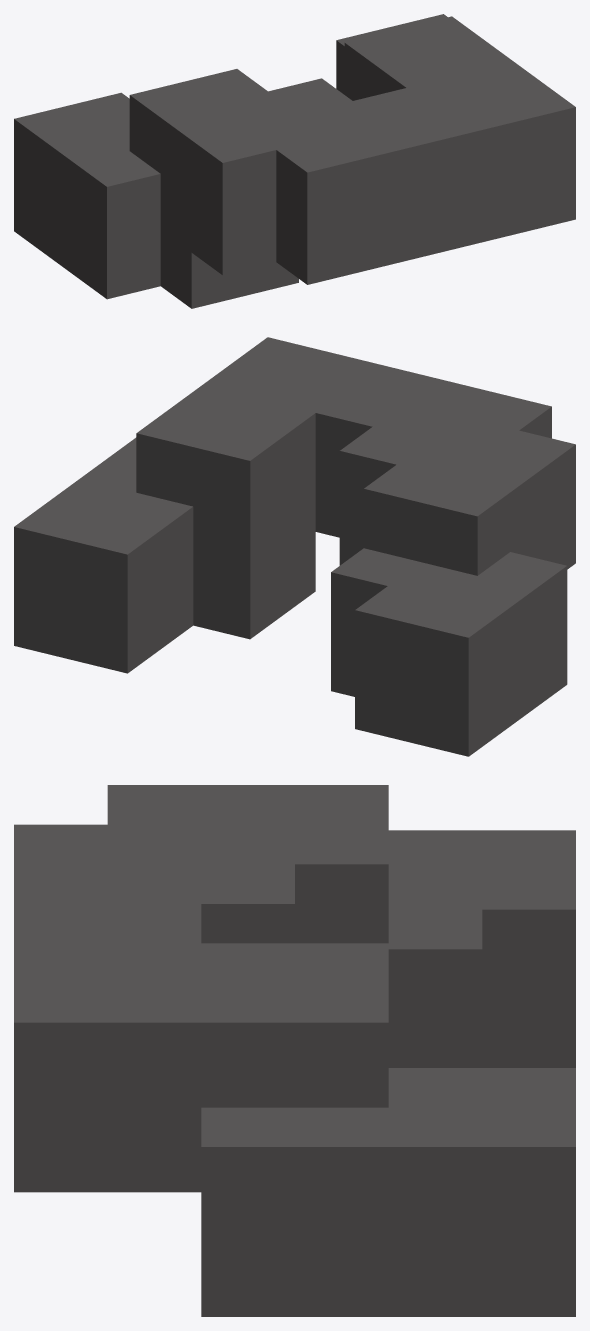
The model's file is seal__tail.glb.
3 views of the same model, one above another, from view 1: azimuth 30°, elevation 25°; view 2: azimuth 150°, elevation 25°; view 3: azimuth 270°, elevation 25° (orthographic). The views are drawn at different scales.
Visible parts, largest first — view 1: seal__tail; view 2: seal__tail; view 3: seal__tail.
Boxes of the visible parts, box(x1,y1,x2,y2) form: seal__tail: box(14, 14, 575, 308); seal__tail: box(14, 337, 575, 756); seal__tail: box(14, 785, 575, 1316).
Bounding box in the file's own units: 0.8 × 0.3 × 0.6.
Materials: 1 (1 with a texture image).
